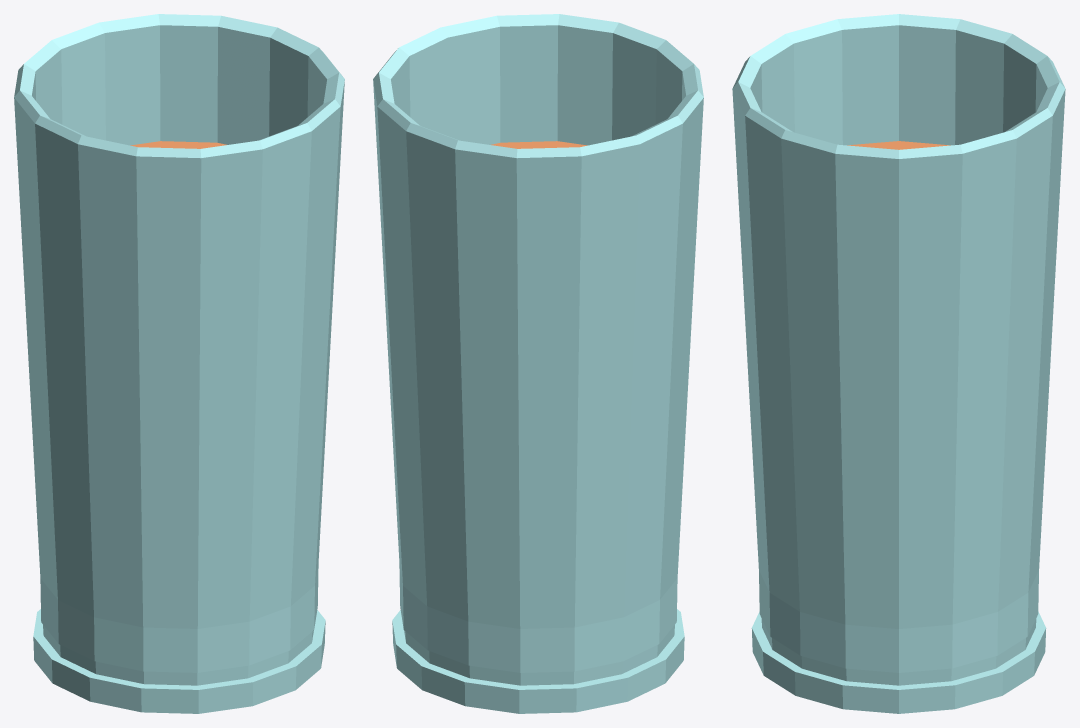
The model's file is cupFilledOrange.fbx.
3 views of the same model, side by side, from view 1: azimuth 30°, elevation 25°; view 2: azimuth 150°, elevation 25°; view 3: azimuth 270°, elevation 25° (orthographic).
Visible parts, largest first — view 1: Cup, Juice; view 2: Cup, Juice; view 3: Cup, Juice.
Boxes of the visible parts, x1,y1,x2,y2 form: Cup: (14, 14, 344, 713); Juice: (130, 141, 226, 148); Cup: (373, 14, 703, 713); Juice: (491, 141, 587, 148); Cup: (732, 14, 1065, 713); Juice: (847, 141, 950, 149).
Size of the model in its own units: 228 by 430 by 228.
